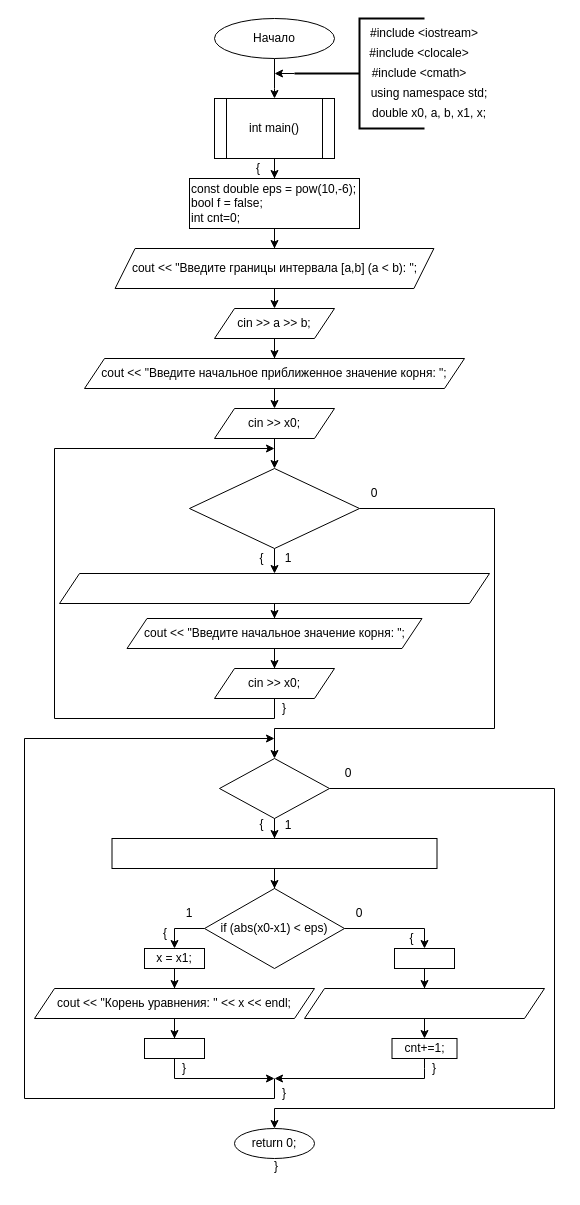
Some shapes in this 580 by 1205 pixel diagram are drawn without their labels. The centre of each missing label's shape, as x and y in pixels:
cout << "x" << cnt << ": " << x0 << endl;: point 424,1003
cout << "Начальное значение корня не входит в интервал [a,b]" << endl;: point 274,588
f = true;: point 174,1048
while (f != true): point 274,788
while (x0 > b || x0 < a): point 274,508
x0 = x1;: point 424,958
x1 = x0 - (exp(x0) - exp(-x0) - 2) / ((exp(2*x0)+1)/(exp(x0)));: point 274,853
